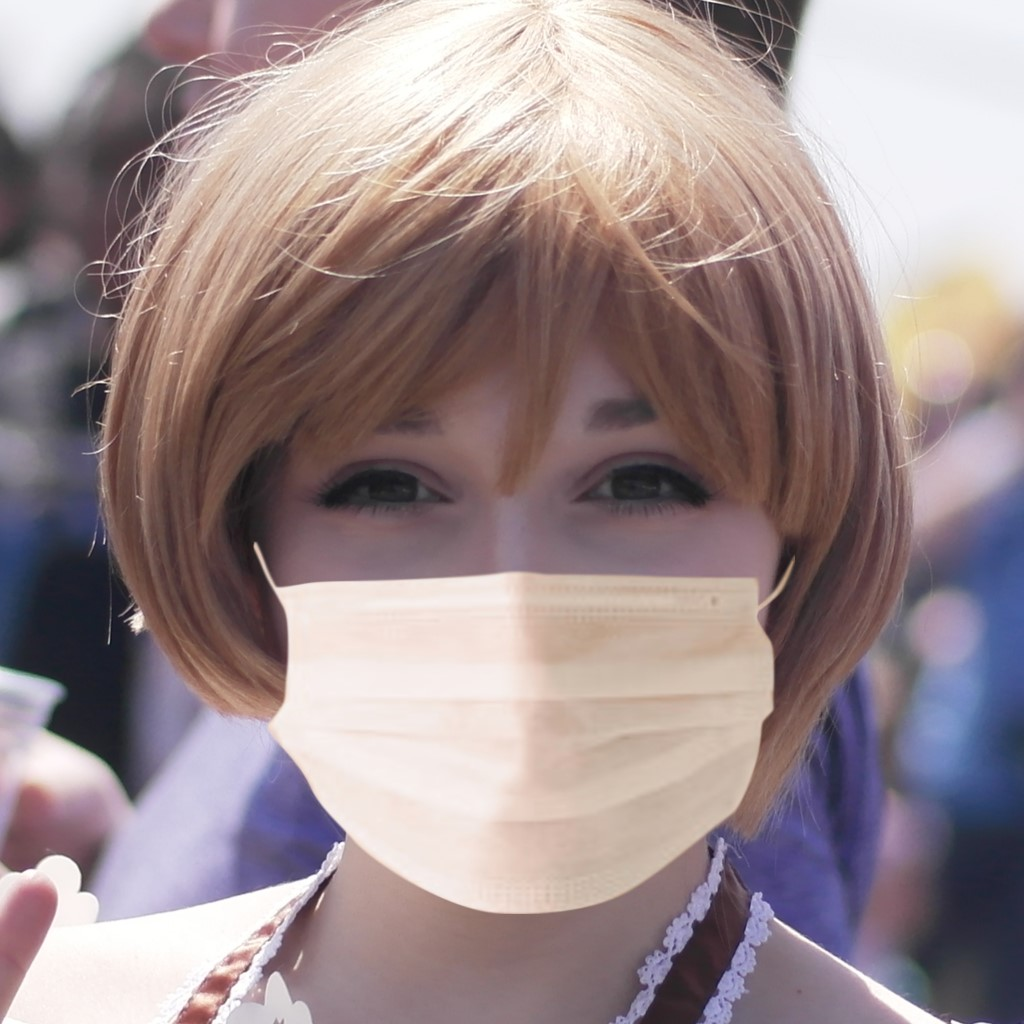con_mascara: (254, 212, 773, 932)
